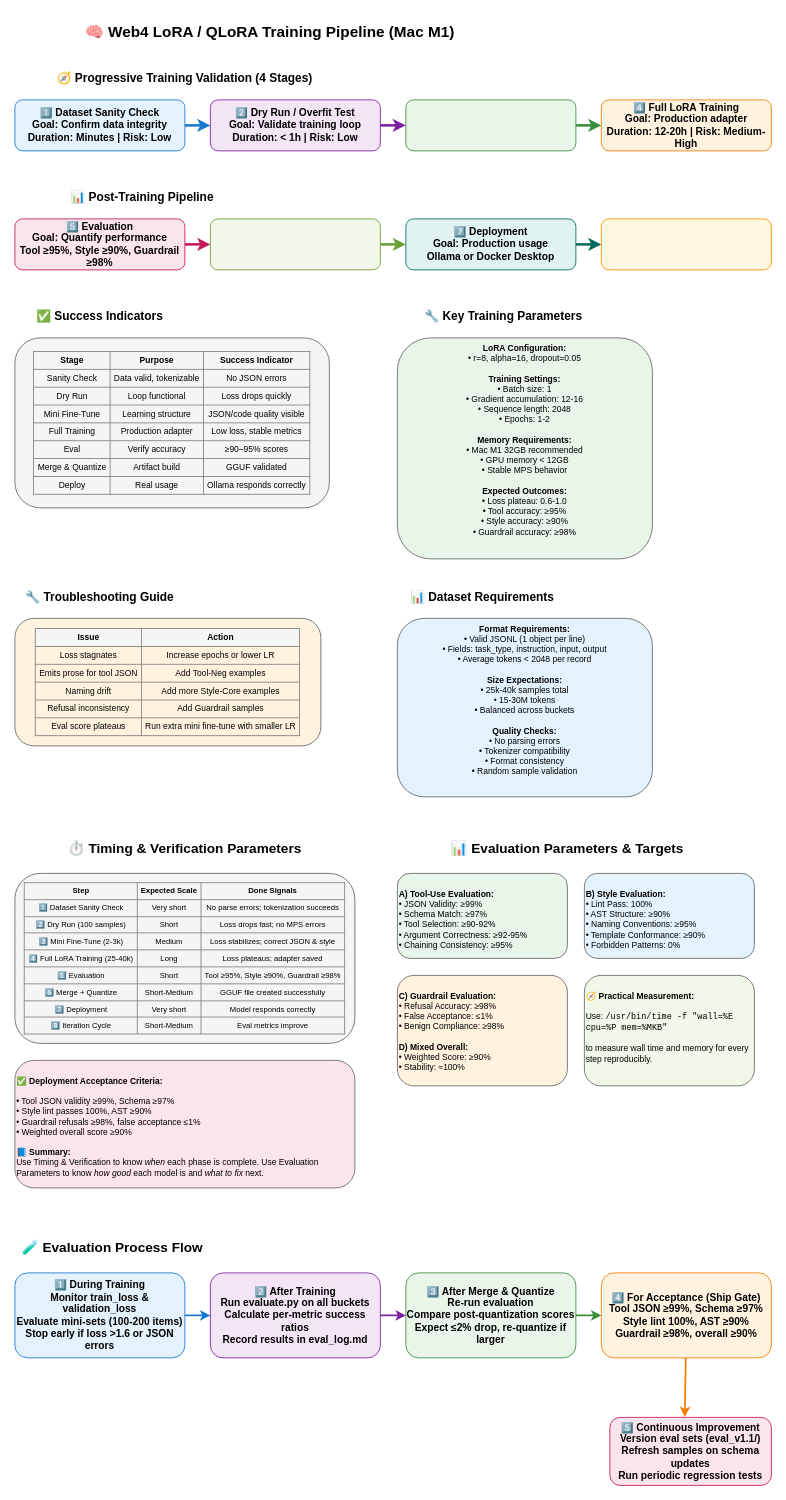
Image size: 786x1500. Some labels were removed from this diagram. The centre of each missing label's shape, as x and y in pixels:
"3️⃣ Mini Fine-Tune Goal: Verify learning structure Duration: 3-4h | Risk: Medium" belongs at point (490, 125).
"6️⃣ Merge + Quantize Goal: Deployable artifact GGUF or adapter format" belongs at point (295, 244).
"8️⃣ Iteration & Improvement Goal: Continuous enhancement Troubleshooting guide" belongs at point (686, 244).
